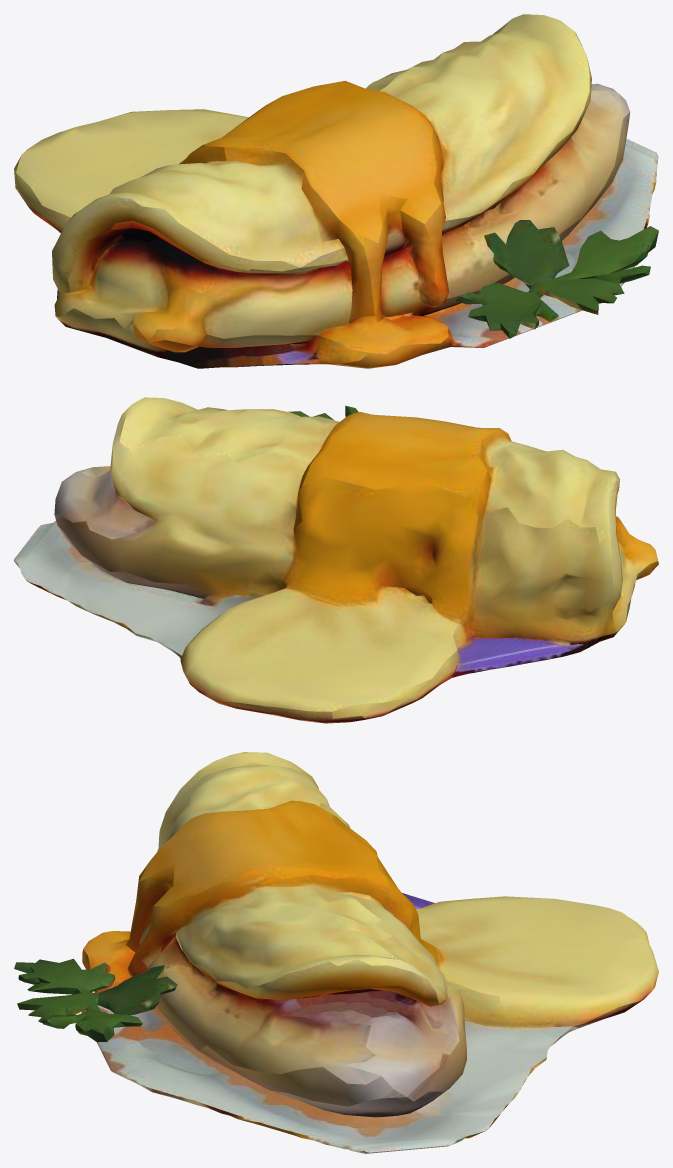
File: cheese_omelette.glb
The picture shows the model from 3 angles, top to bottom: view 1: azimuth 30°, elevation 25°; view 2: azimuth 150°, elevation 25°; view 3: azimuth 270°, elevation 25°; orthographic projection. The views are drawn at different scales.
Visible parts, largest first — view 1: cheese_omelette; view 2: cheese_omelette; view 3: cheese_omelette.
Boxes of the visible parts, x1,y1,x2,y2 form: cheese_omelette: (14,14,658,368); cheese_omelette: (14,397,658,723); cheese_omelette: (14,752,658,1153).
Bounding box in the file's own units: 1 × 0.2467 × 0.9551.
1 material, 1 textured.
